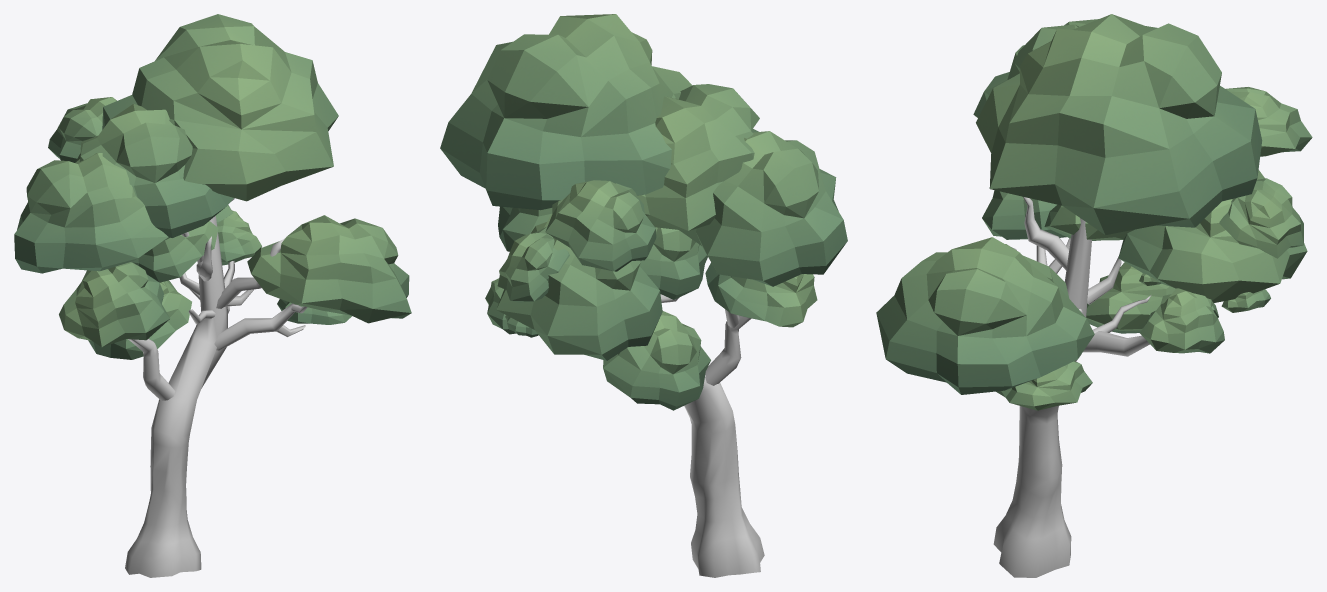
Rendered from tree.obj.
3 views of the same model, side by side, from view 1: azimuth 30°, elevation 25°; view 2: azimuth 150°, elevation 25°; view 3: azimuth 270°, elevation 25° (orthographic). The views are drawn at different scales.
Parts seen in each view (by area): view 1: tree_leaves[-2744], tree_04[-2752]; view 2: tree_leaves[-2744], tree_04[-2752]; view 3: tree_leaves[-2744], tree_04[-2752].
Boxes of the visible parts, bbox=[...] form: tree_leaves[-2744]: bbox=[14, 14, 411, 359]; tree_04[-2752]: bbox=[125, 198, 307, 577]; tree_leaves[-2744]: bbox=[440, 14, 847, 410]; tree_04[-2752]: bbox=[660, 294, 764, 577]; tree_leaves[-2744]: bbox=[876, 14, 1312, 410]; tree_04[-2752]: bbox=[993, 197, 1151, 577].
Size of the model in its own units: 9.46 by 13.16 by 8.84.
